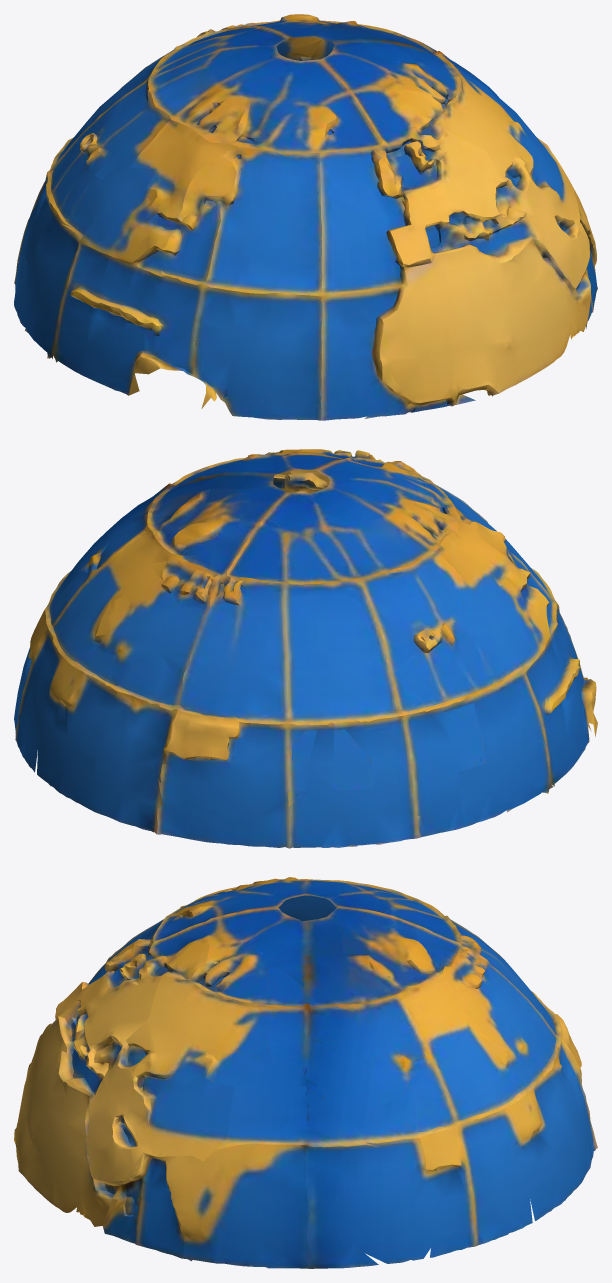
The model's file is globe_top_half.glb.
3 renders of one model, top to bottom at view 1: azimuth 30°, elevation 25°; view 2: azimuth 150°, elevation 25°; view 3: azimuth 270°, elevation 25°, orthographic. The views are drawn at different scales.
Parts seen in each view (by area): view 1: geometry_0; view 2: geometry_0; view 3: geometry_0.
Boxes of the visible parts, x1=… form: geometry_0: x1=14, y1=14, x2=597, y2=420; geometry_0: x1=14, y1=449, x2=597, y2=848; geometry_0: x1=14, y1=877, x2=597, y2=1268.
Bounding box in the file's own units: 0.468 × 0.2234 × 0.4808.
1 material, 1 textured.
